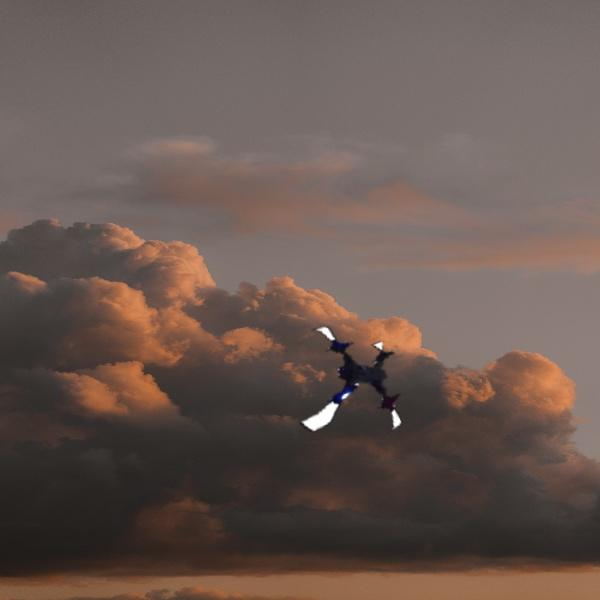drone: (274, 317, 410, 453)
